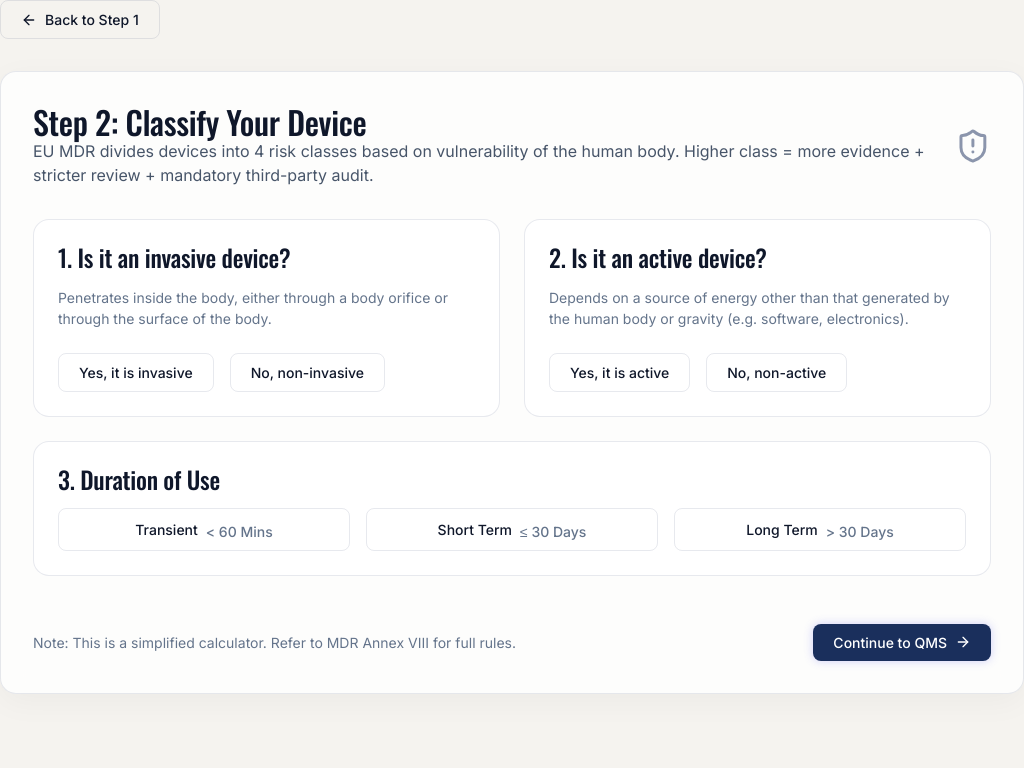
Test: Step2 component › step2.inv.06: Class I shown for non-invasive, non-active device
This screenshot has width=1024, height=768.
What coordinates should you click on to do the following:
click the button "No, non-invasive"
I would click on:
 (307, 372)
Its box is [230, 353, 385, 392].
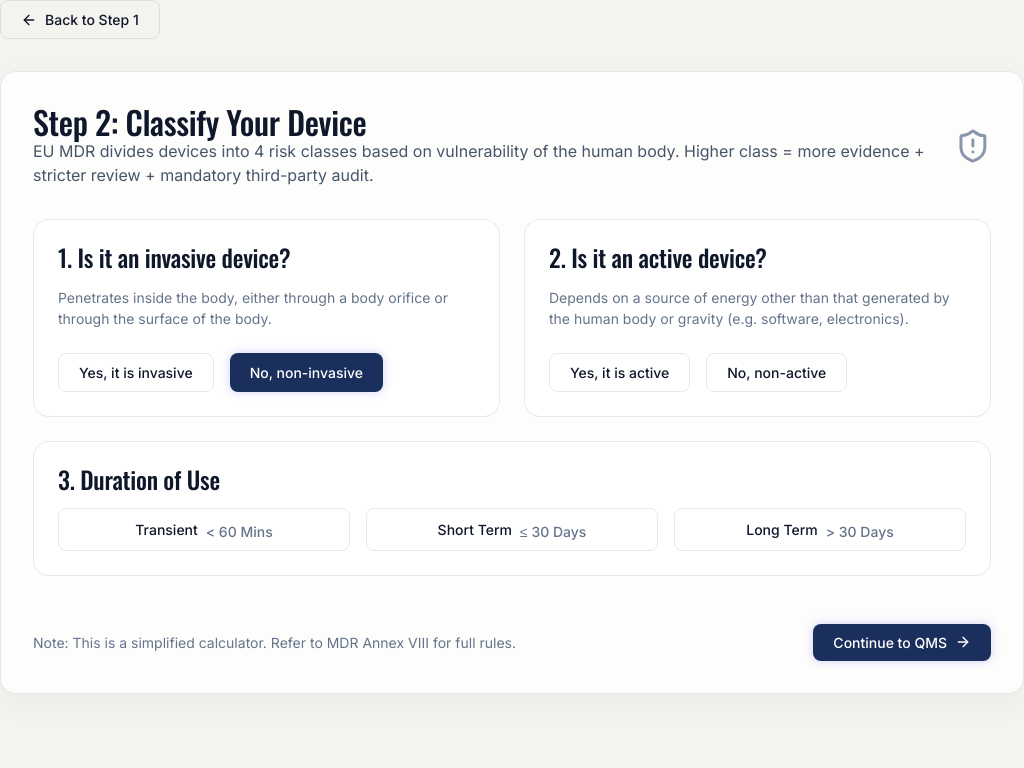
What coordinates should you click on to do the following:
click the button "No, non-active"
I would click on:
 (777, 372)
Its box is [706, 353, 847, 392].
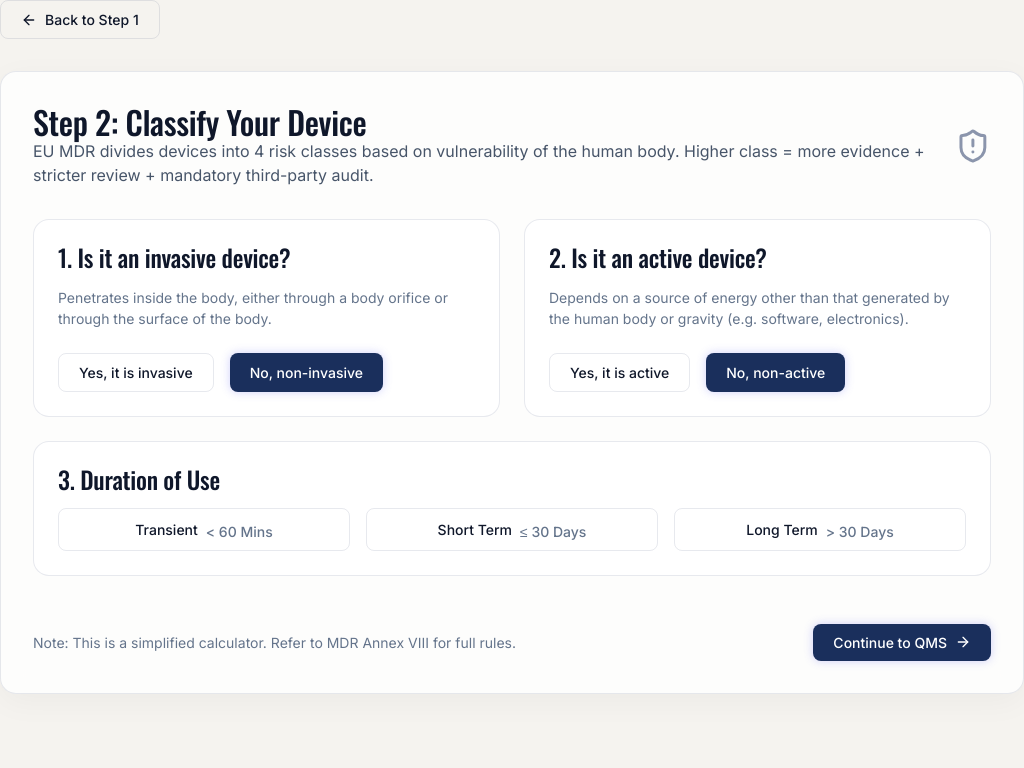
What coordinates should you click on to do the following:
click the button "transient < 60 mins"
I would click on:
 (204, 530)
Its box is [58, 508, 350, 551].
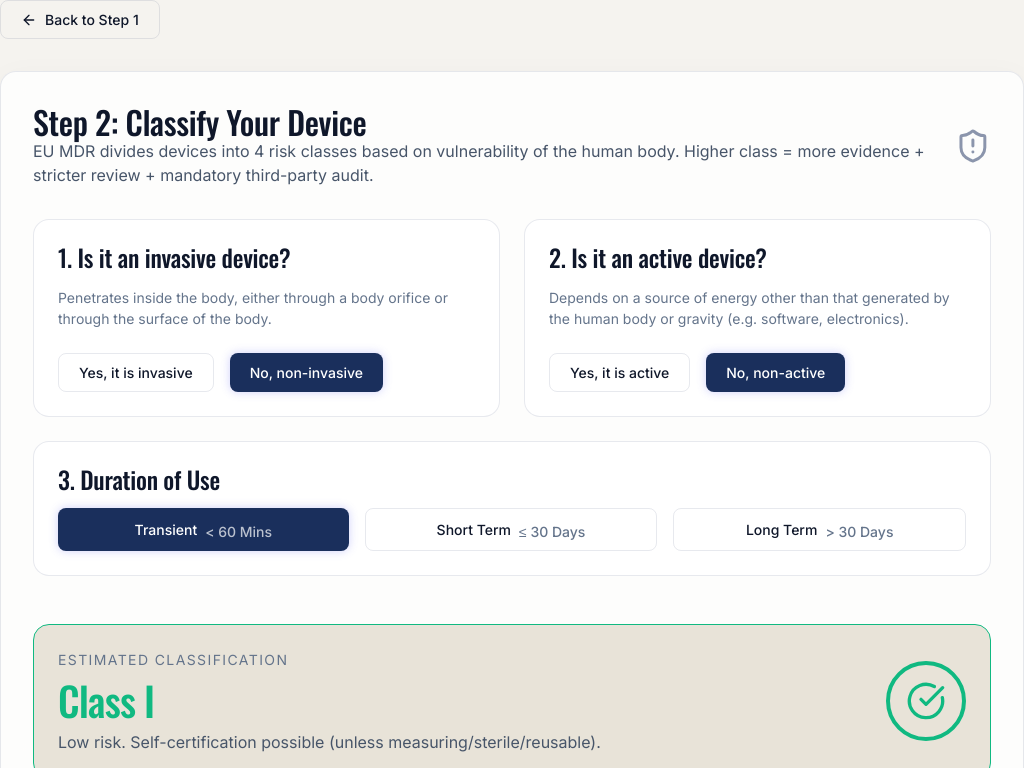
Check: the heading "Class I" is shown, box [58, 670, 154, 730]
